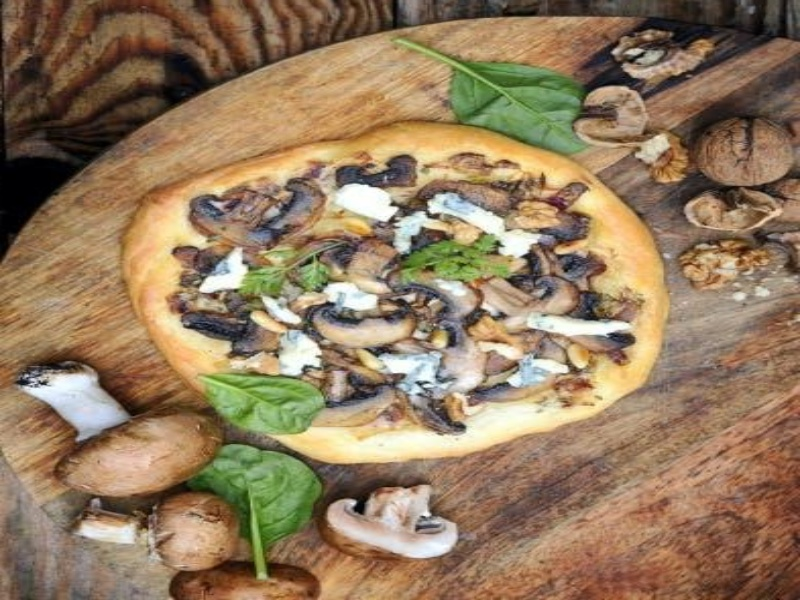champignon: (323, 475, 466, 565), (188, 185, 292, 247), (302, 297, 424, 348)
